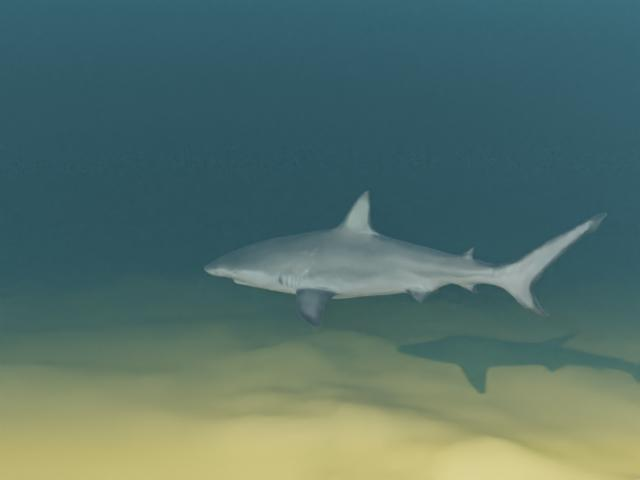Carribean Shark.001: (204, 190, 607, 328)
